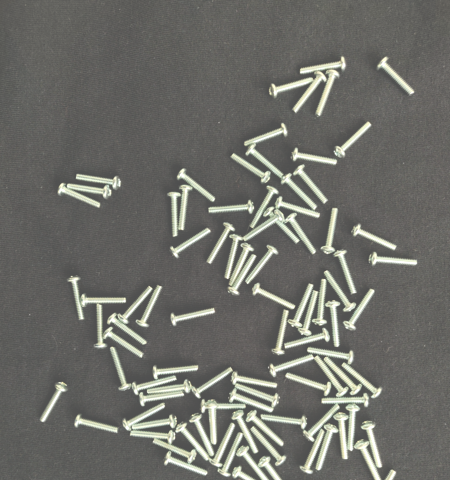longscrew: (375, 55, 417, 99), (322, 356, 364, 397), (331, 120, 374, 160), (340, 362, 384, 401), (290, 71, 328, 116), (249, 426, 289, 468), (313, 355, 350, 400), (322, 268, 358, 314), (263, 206, 303, 247), (246, 410, 287, 450), (342, 287, 378, 332), (280, 173, 320, 213), (245, 143, 286, 182), (175, 167, 217, 205), (293, 165, 331, 207), (175, 421, 212, 464), (37, 379, 70, 427), (242, 209, 287, 244), (284, 212, 318, 258), (302, 405, 342, 443), (190, 367, 236, 400), (204, 221, 237, 267), (244, 244, 280, 286), (313, 68, 342, 120), (102, 327, 146, 361), (168, 227, 213, 260), (225, 253, 258, 298), (117, 285, 154, 325), (248, 185, 280, 231), (350, 223, 399, 253), (229, 152, 273, 185), (287, 283, 317, 331), (107, 314, 149, 348), (207, 421, 237, 468), (134, 285, 165, 330), (298, 428, 327, 476), (216, 431, 245, 479), (241, 122, 290, 150), (162, 451, 209, 480), (56, 183, 103, 212), (227, 242, 256, 289), (231, 409, 260, 456), (228, 388, 276, 416), (252, 284, 298, 313), (333, 247, 359, 298), (121, 403, 168, 431), (188, 412, 216, 459), (107, 346, 134, 394), (234, 383, 282, 410), (274, 196, 323, 222), (152, 439, 199, 466), (266, 76, 316, 101), (266, 353, 316, 378), (354, 439, 384, 480), (314, 424, 339, 473), (360, 419, 384, 470), (237, 446, 273, 480), (285, 373, 333, 398), (73, 413, 122, 437), (283, 328, 332, 352), (318, 206, 341, 256), (296, 291, 320, 338), (167, 307, 218, 329), (223, 233, 246, 281), (289, 146, 339, 168), (130, 375, 179, 397), (298, 56, 349, 77), (65, 274, 86, 324), (306, 346, 357, 366), (270, 309, 291, 357), (367, 250, 420, 269), (324, 298, 343, 351), (230, 371, 280, 391), (75, 171, 122, 192), (131, 414, 179, 434), (261, 412, 309, 432), (66, 182, 114, 201), (136, 390, 186, 408), (311, 278, 329, 328), (130, 428, 177, 447), (258, 456, 294, 480), (177, 184, 194, 234), (206, 200, 256, 217), (321, 393, 371, 410), (151, 364, 200, 381), (91, 302, 108, 351), (165, 190, 182, 239), (198, 399, 248, 415), (78, 293, 128, 309), (346, 404, 362, 454), (334, 413, 350, 463), (146, 379, 193, 396), (204, 399, 220, 447), (232, 466, 277, 480), (365, 468, 400, 480)
